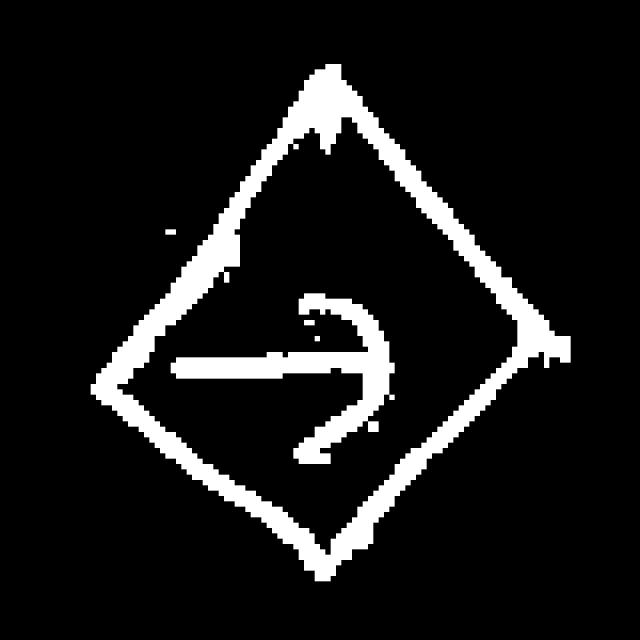dependant_current: (86, 54, 556, 584)
